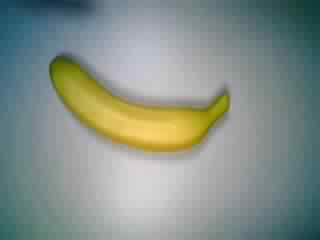banana: (47, 47, 233, 156)
